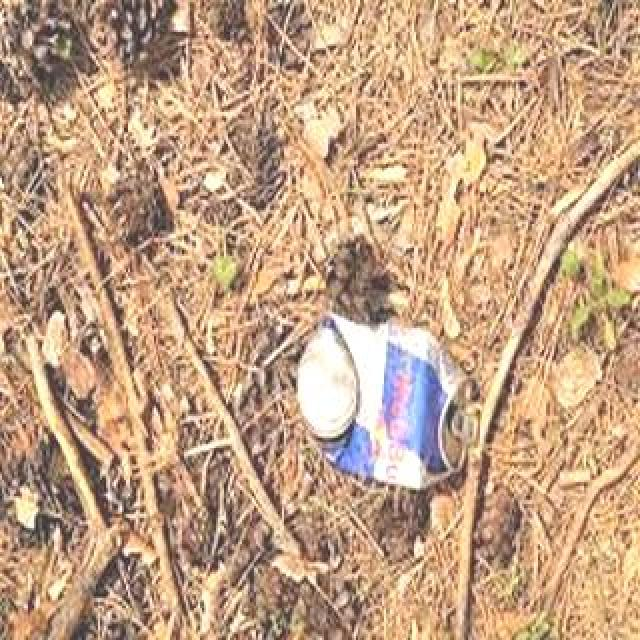Can: (283, 305, 477, 483)
